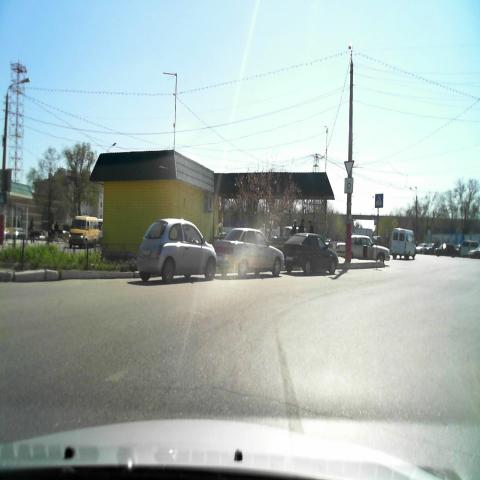8_13_1: (343, 178, 355, 196)
